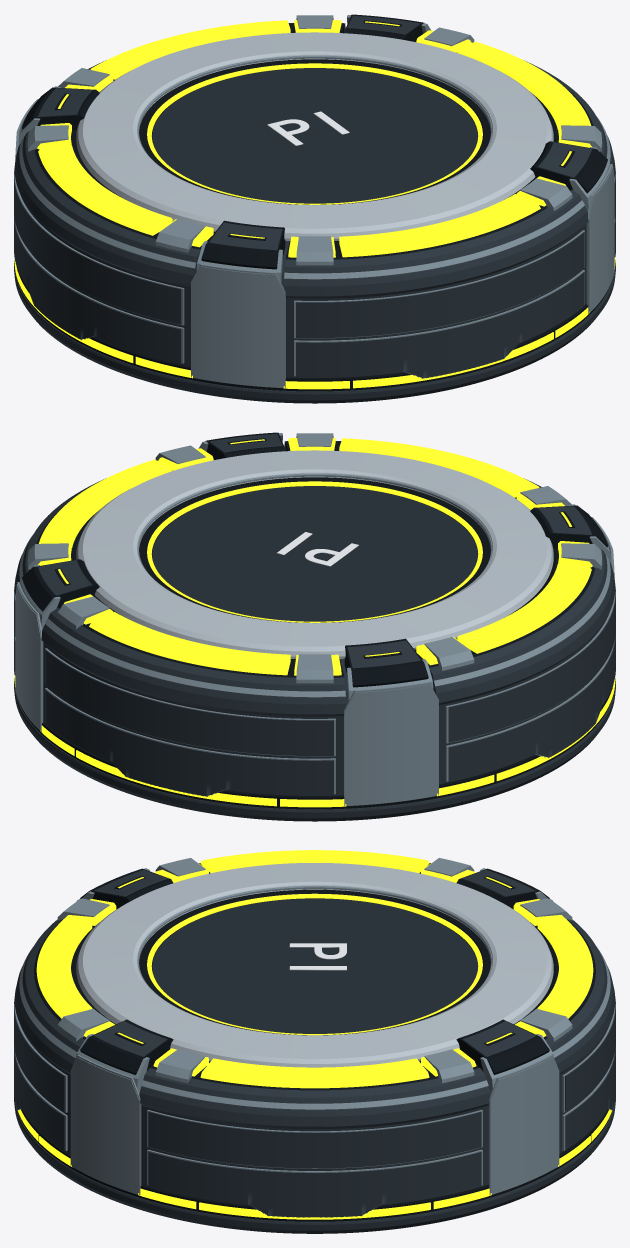
File: Heavy.fbx
3 renders of one model, top to bottom at view 1: azimuth 30°, elevation 25°; view 2: azimuth 150°, elevation 25°; view 3: azimuth 270°, elevation 25°, orthographic.
Parts seen in each view (by area): view 1: SM_Puck_Heavy_P1_HighDetail; view 2: SM_Puck_Heavy_P1_HighDetail; view 3: SM_Puck_Heavy_P1_HighDetail.
Boxes of the visible parts, left/top/right/bottom form: SM_Puck_Heavy_P1_HighDetail: left=14, top=14, right=615, bottom=403; SM_Puck_Heavy_P1_HighDetail: left=14, top=432, right=615, bottom=821; SM_Puck_Heavy_P1_HighDetail: left=14, top=850, right=615, bottom=1233.
Size of the model in its own units: 97.5 by 97.5 by 27.3.
